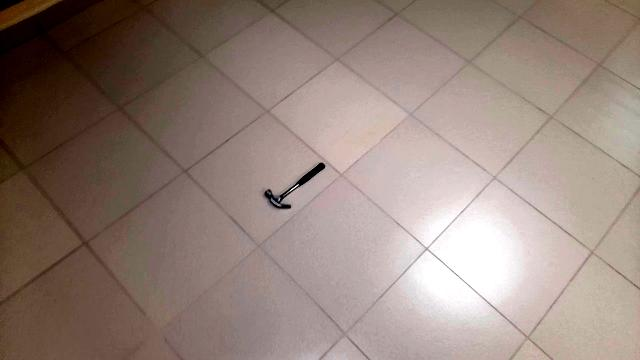hammer: (258, 166, 336, 214)
